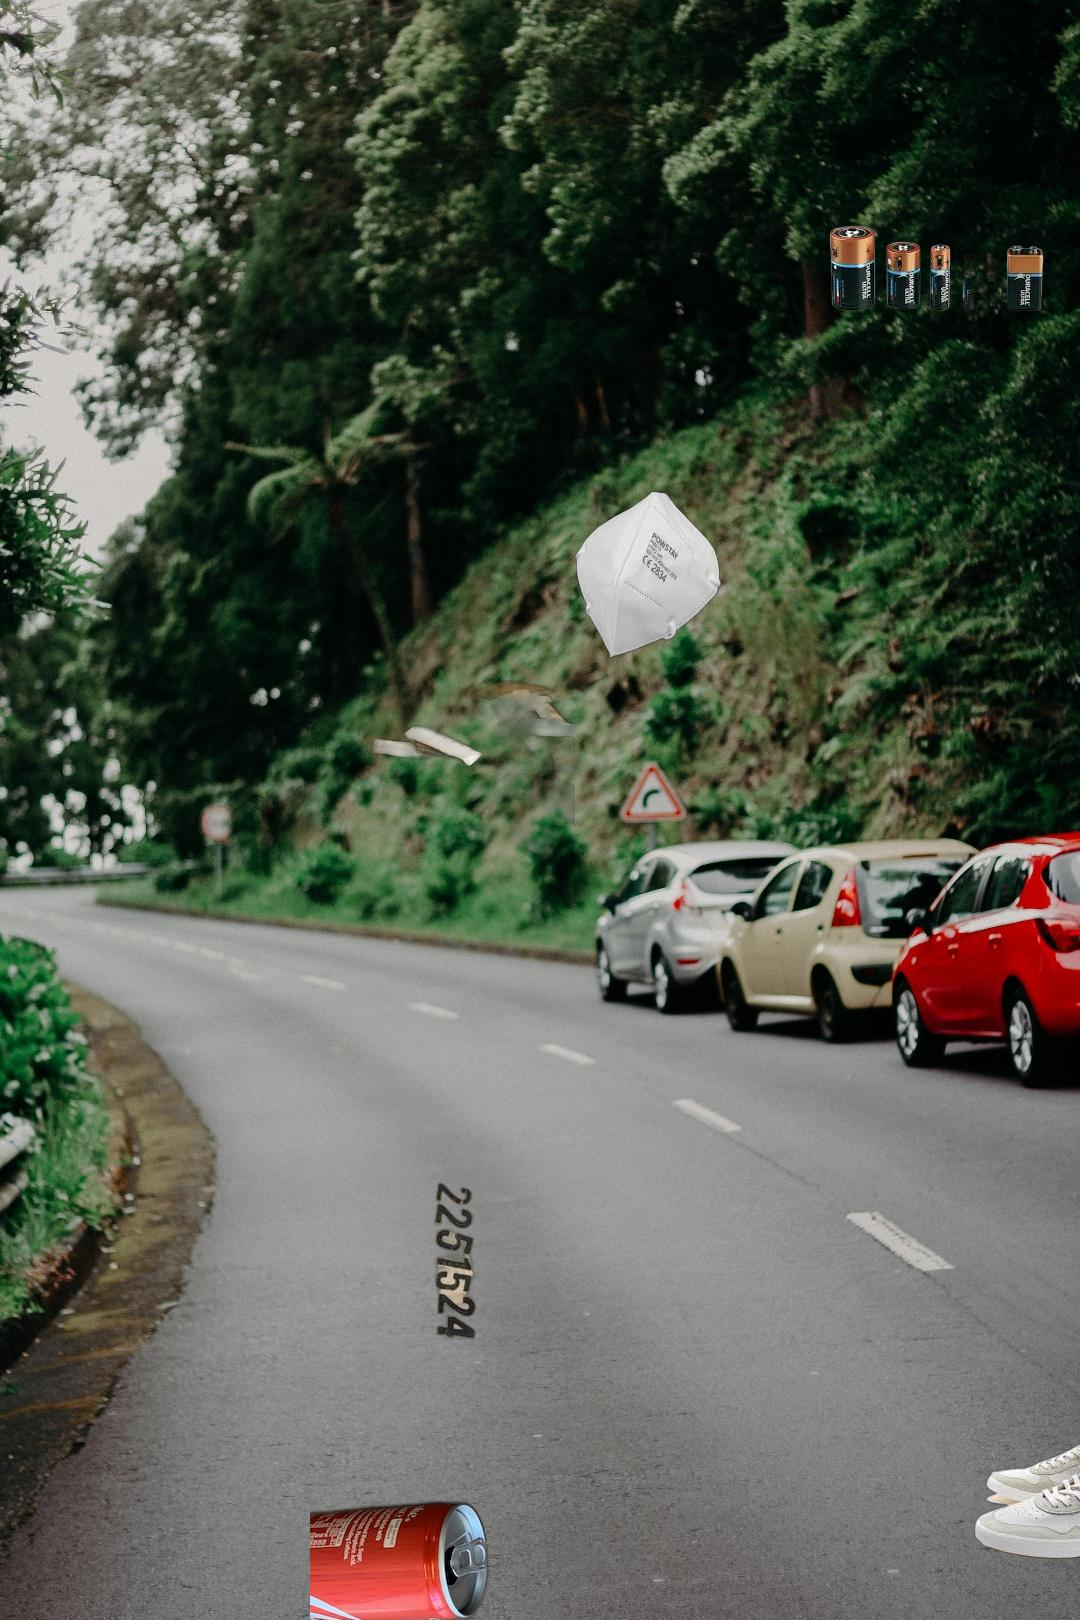battery: (827, 223, 1046, 313)
metal-cans: (310, 1495, 493, 1620)
shoes: (972, 1410, 1080, 1561)
trash: (573, 489, 724, 661)
trashbox-cardboard: (228, 630, 575, 896), (430, 1180, 480, 1340)
